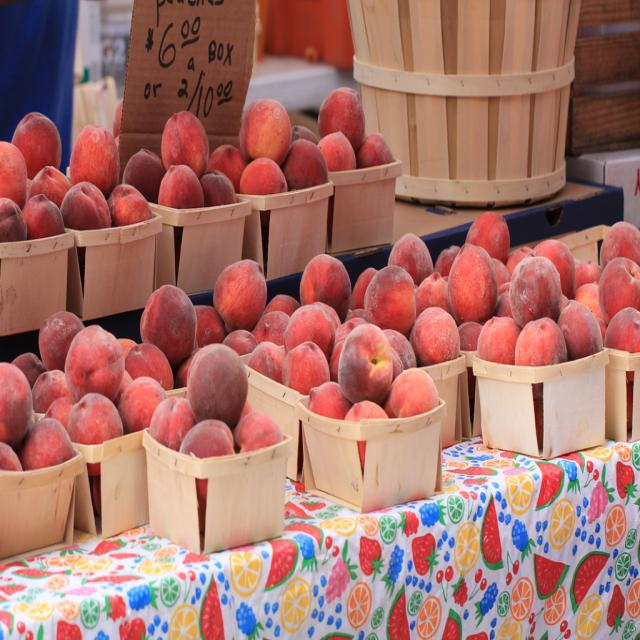Peach: (195, 206, 640, 474), (13, 310, 168, 516), (147, 341, 280, 538), (0, 110, 153, 241), (120, 110, 236, 212), (210, 98, 328, 196), (118, 282, 202, 392), (291, 83, 394, 167), (0, 360, 33, 439), (24, 418, 70, 469), (0, 442, 23, 470), (111, 98, 123, 134)
